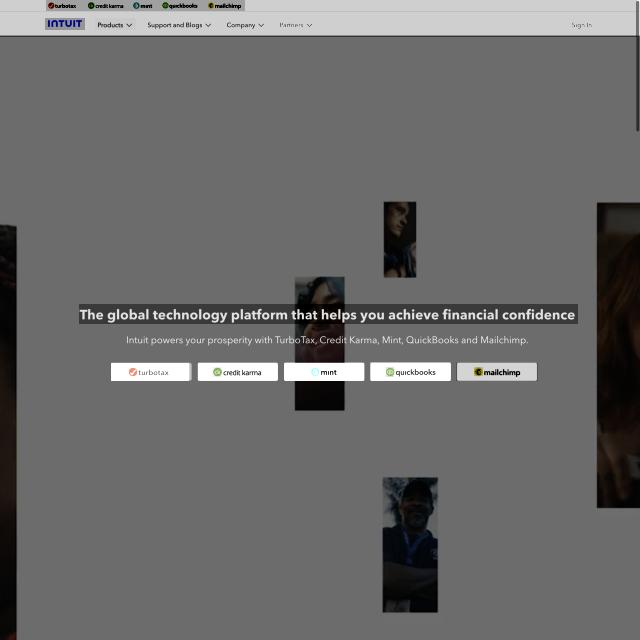CheckBox: (284, 362, 365, 381), (370, 362, 451, 381), (198, 362, 278, 381), (456, 363, 538, 381), (112, 363, 192, 381), (569, 20, 595, 31)
alert: (144, 19, 214, 30), (95, 18, 136, 31), (225, 20, 267, 30), (279, 20, 314, 31)
bag: (0, 0, 637, 37)
data feed: (140, 369, 174, 377)
date picker: (45, 18, 85, 30), (130, 367, 139, 377), (213, 367, 222, 377), (474, 367, 483, 376), (386, 367, 394, 377), (310, 368, 320, 376)
decoration: (46, 0, 245, 11)
image: (79, 304, 578, 324)
